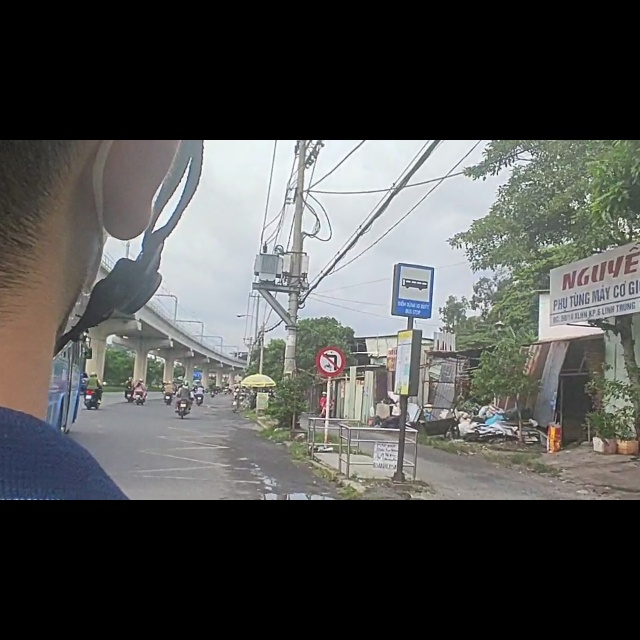bien_cam: (392, 216, 433, 320), (315, 365, 346, 422)
